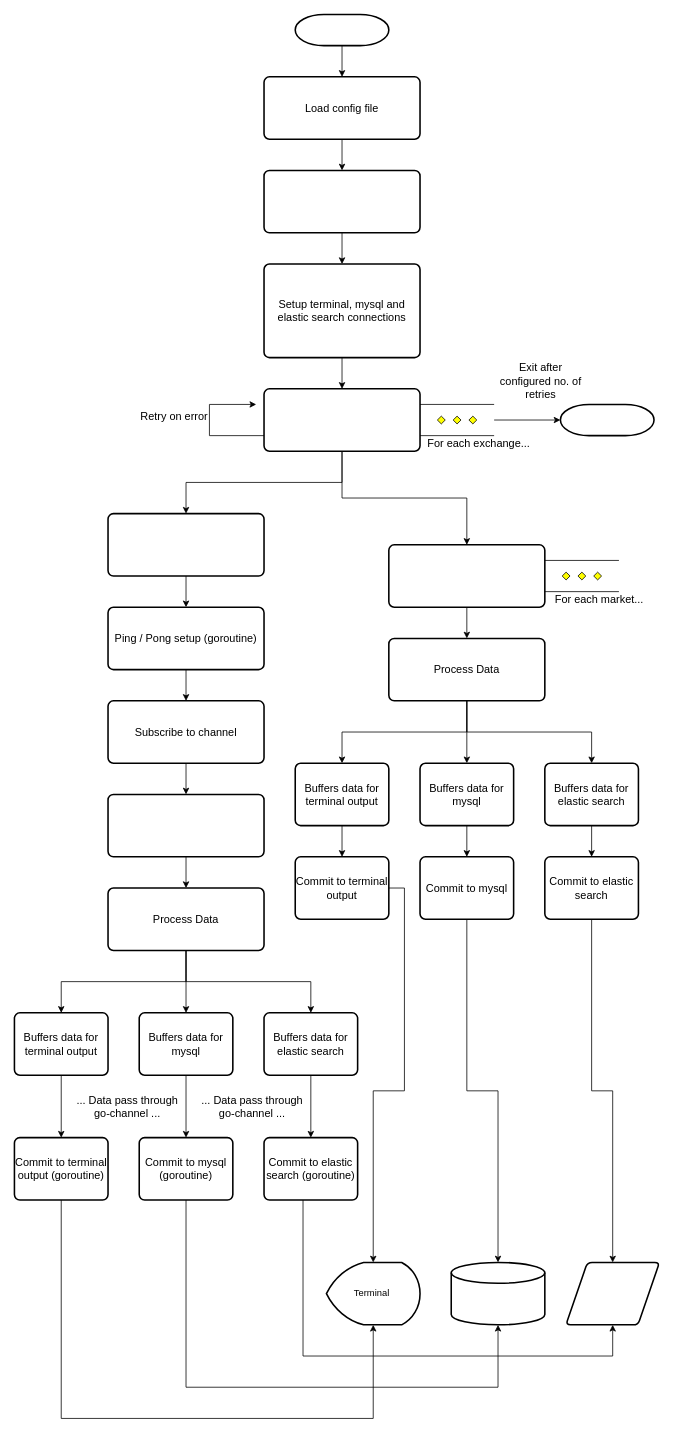
Image size: 673x1438. Some labels were removed from this diagram. The centre of each missing label's shape, as x and y in pixels:
"Connect to websocket" goes at point (185, 544).
"Elastic Search" goes at point (612, 1293).
"End" goes at point (606, 419).
"MySQL" goes at point (497, 1293).
"Read data (goroutine)" goes at point (185, 825).
"REST GET for data (goroutine)" goes at point (466, 576).
"Setup logger" goes at point (341, 201).
"Start" goes at point (341, 29).
"Start exchange (goroutine)" goes at point (341, 420).
